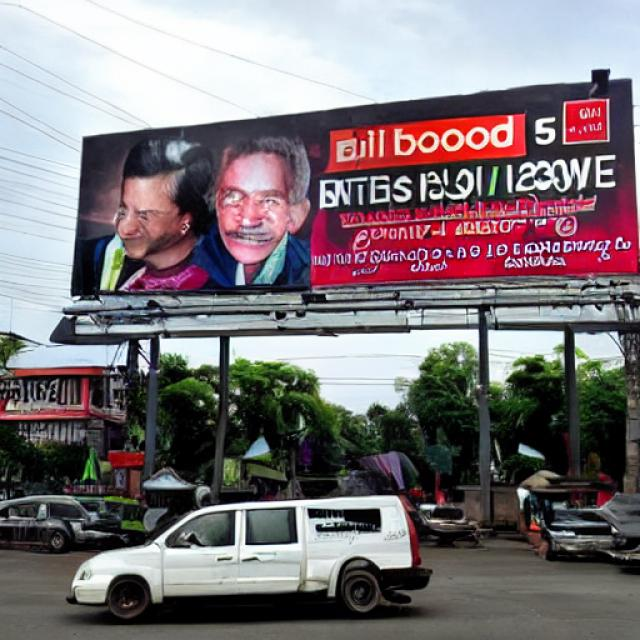Billboard: (66, 71, 640, 346)
